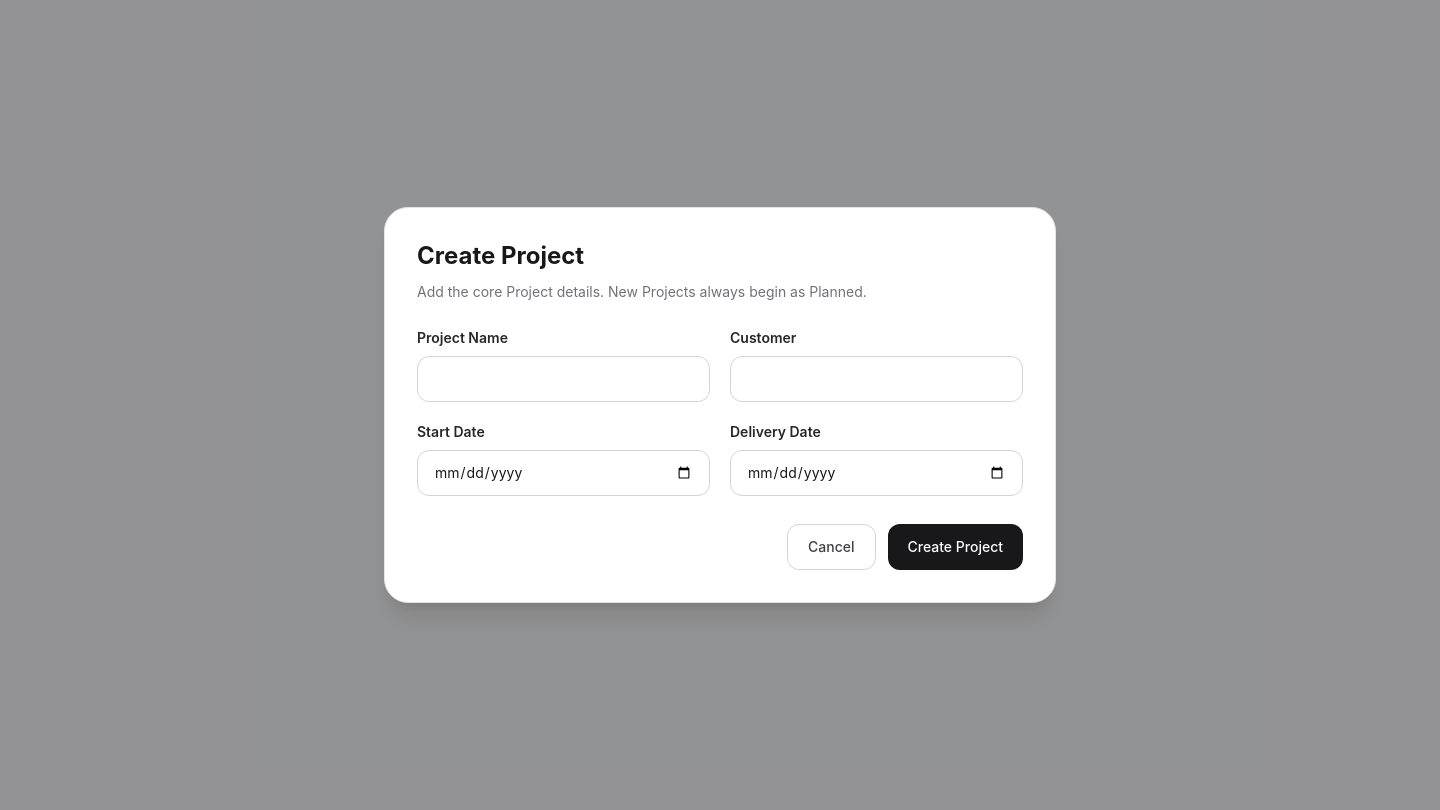
Test: CreateProjectDialog › validates required fields without exposing lifecycle controls
Click the button "Create Project" at (955, 547), box [888, 524, 1023, 570]
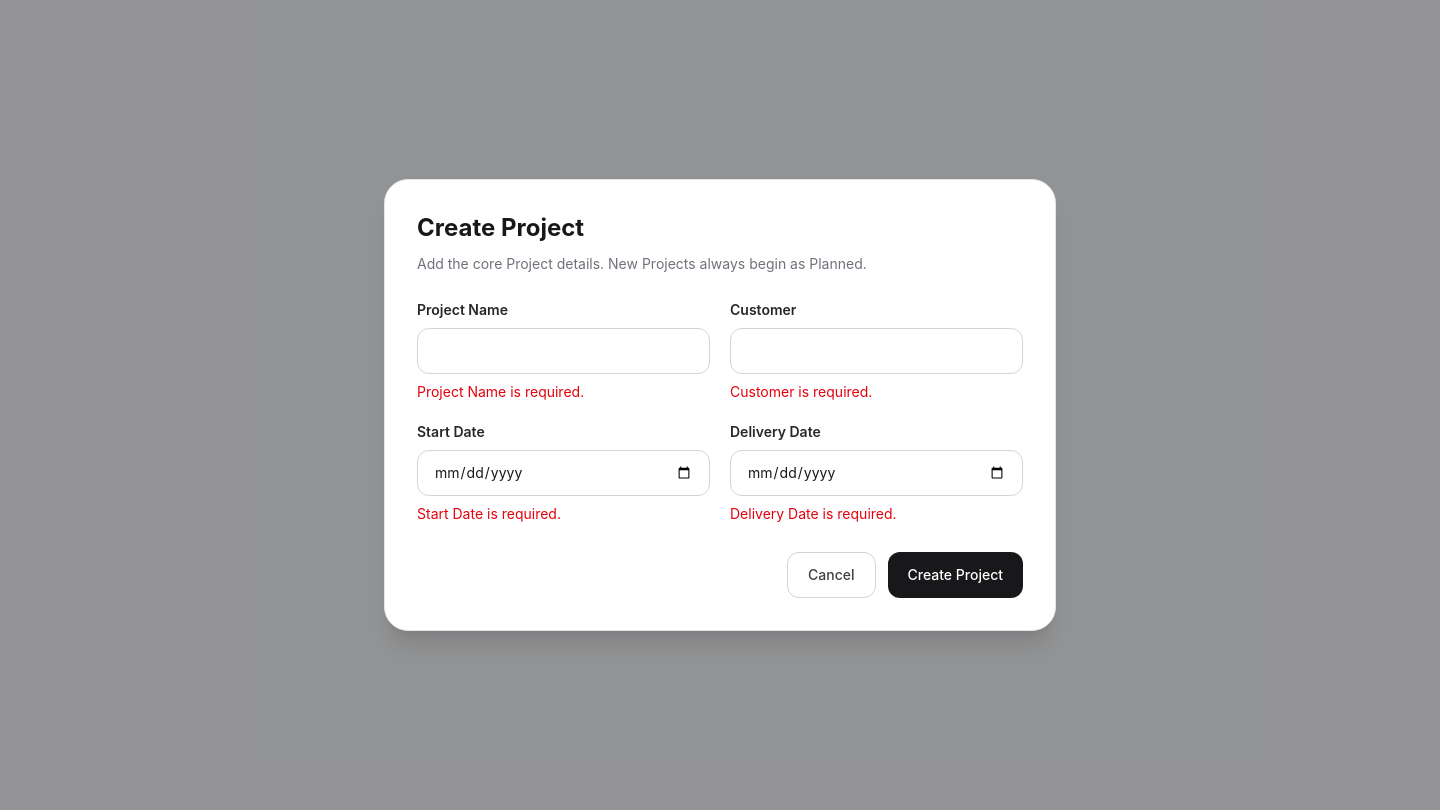
Expected: the text "Project Name is required." is shown, [417, 383, 584, 400]
Expected: the text "Customer is required." is shown, [730, 383, 872, 400]
Expected: the text "Start Date is required." is shown, [417, 505, 561, 522]
